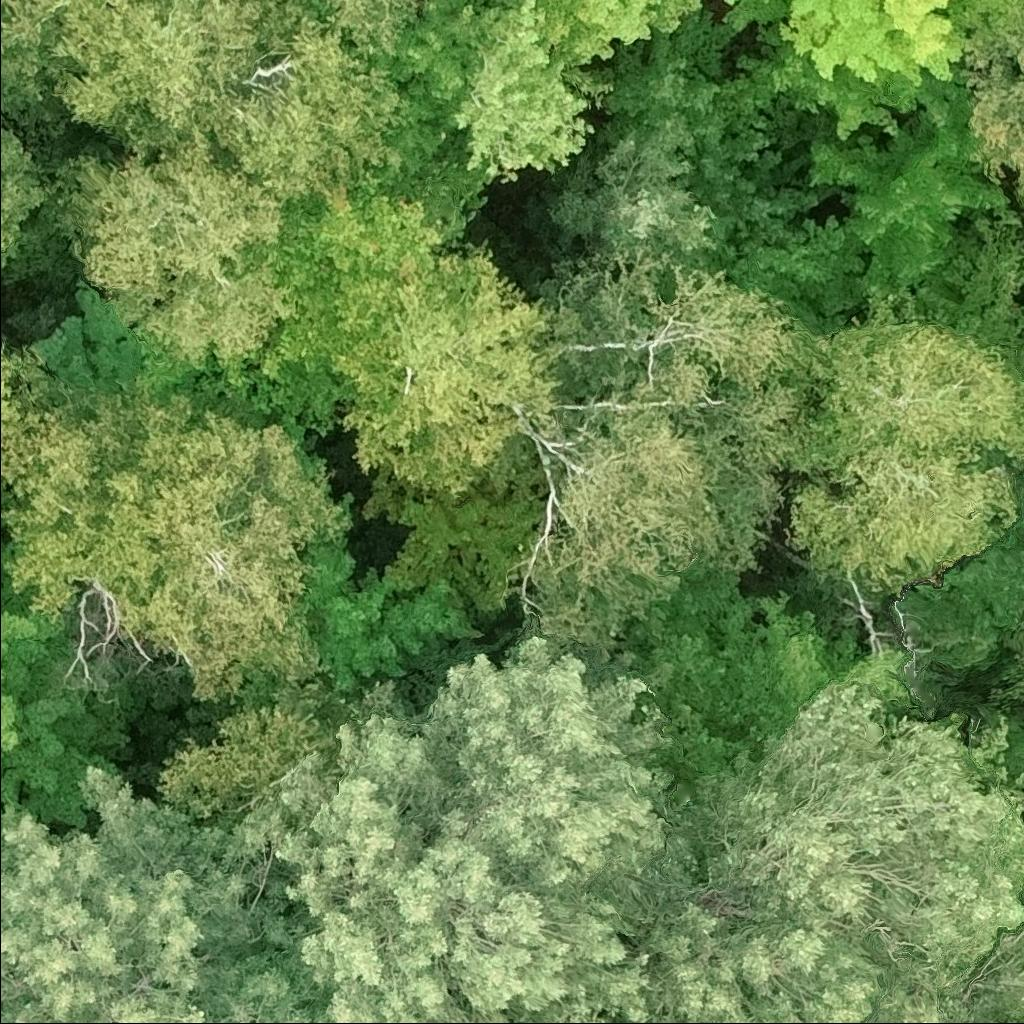crown: (274, 634, 698, 1023), (637, 680, 1023, 1023), (527, 240, 825, 650), (0, 374, 361, 707), (0, 768, 313, 1023), (786, 285, 1023, 600), (323, 238, 570, 501), (47, 123, 299, 374), (806, 58, 1007, 295), (255, 172, 443, 420), (189, 0, 408, 205), (0, 521, 137, 837), (722, 0, 1023, 138), (393, 0, 595, 184), (303, 546, 483, 697), (551, 113, 719, 270), (0, 101, 70, 295), (535, 0, 705, 68), (0, 338, 63, 498), (963, 44, 1023, 197), (319, 0, 422, 67), (613, 1020, 629, 1023), (475, 0, 487, 4)
